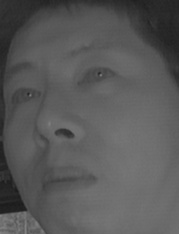eye: (75, 64, 116, 88), (8, 87, 41, 108)
mouth: (36, 161, 98, 202)
